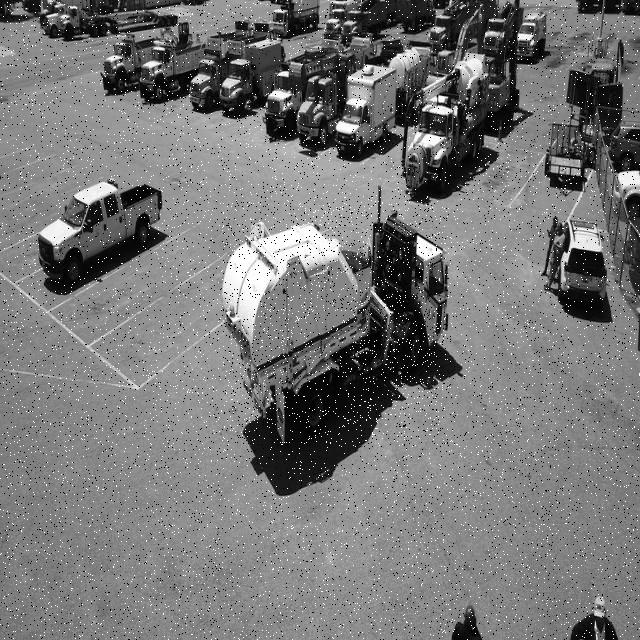Garbage Truck: (223, 201, 449, 446)
